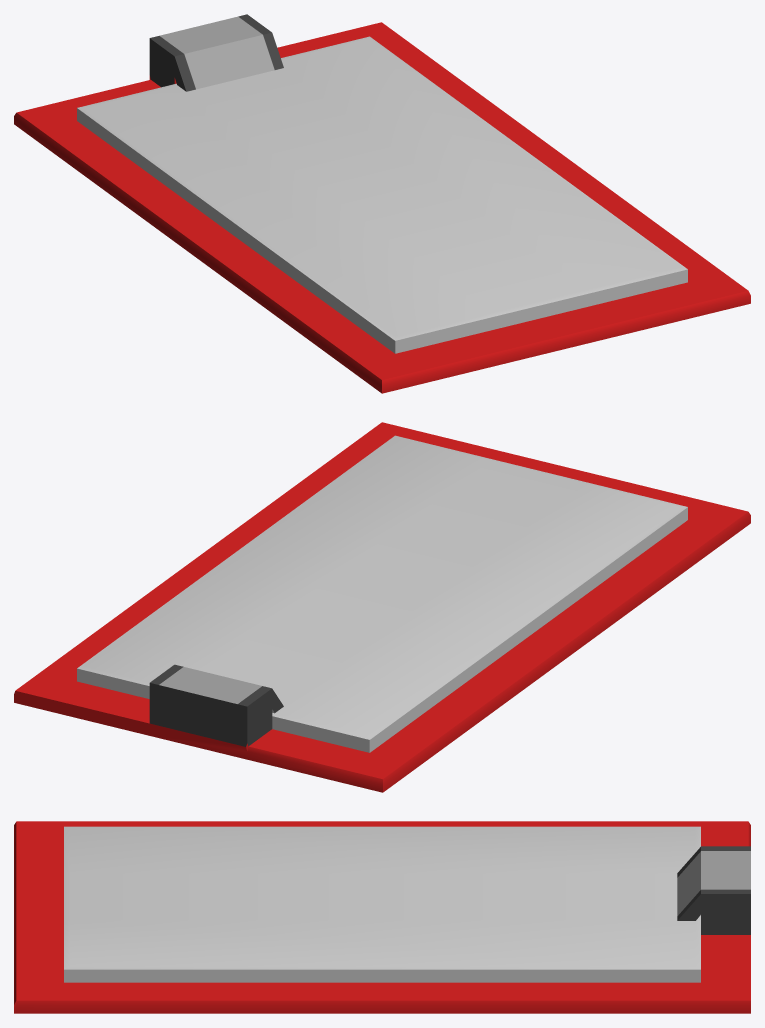
The model's file is DocPaper.003.fbx.
3 renders of one model, top to bottom at view 1: azimuth 30°, elevation 25°; view 2: azimuth 150°, elevation 25°; view 3: azimuth 270°, elevation 25°, orthographic.
Parts seen in each view (by area): view 1: DocPaper.003; view 2: DocPaper.003; view 3: DocPaper.003.
Boxes of the visible parts, x1,y1,x2,y2 form: DocPaper.003: [14, 14, 750, 393]; DocPaper.003: [14, 422, 750, 792]; DocPaper.003: [14, 821, 750, 1013].
Bounding box in the file's own units: 60.06 × 8.26 × 104.
